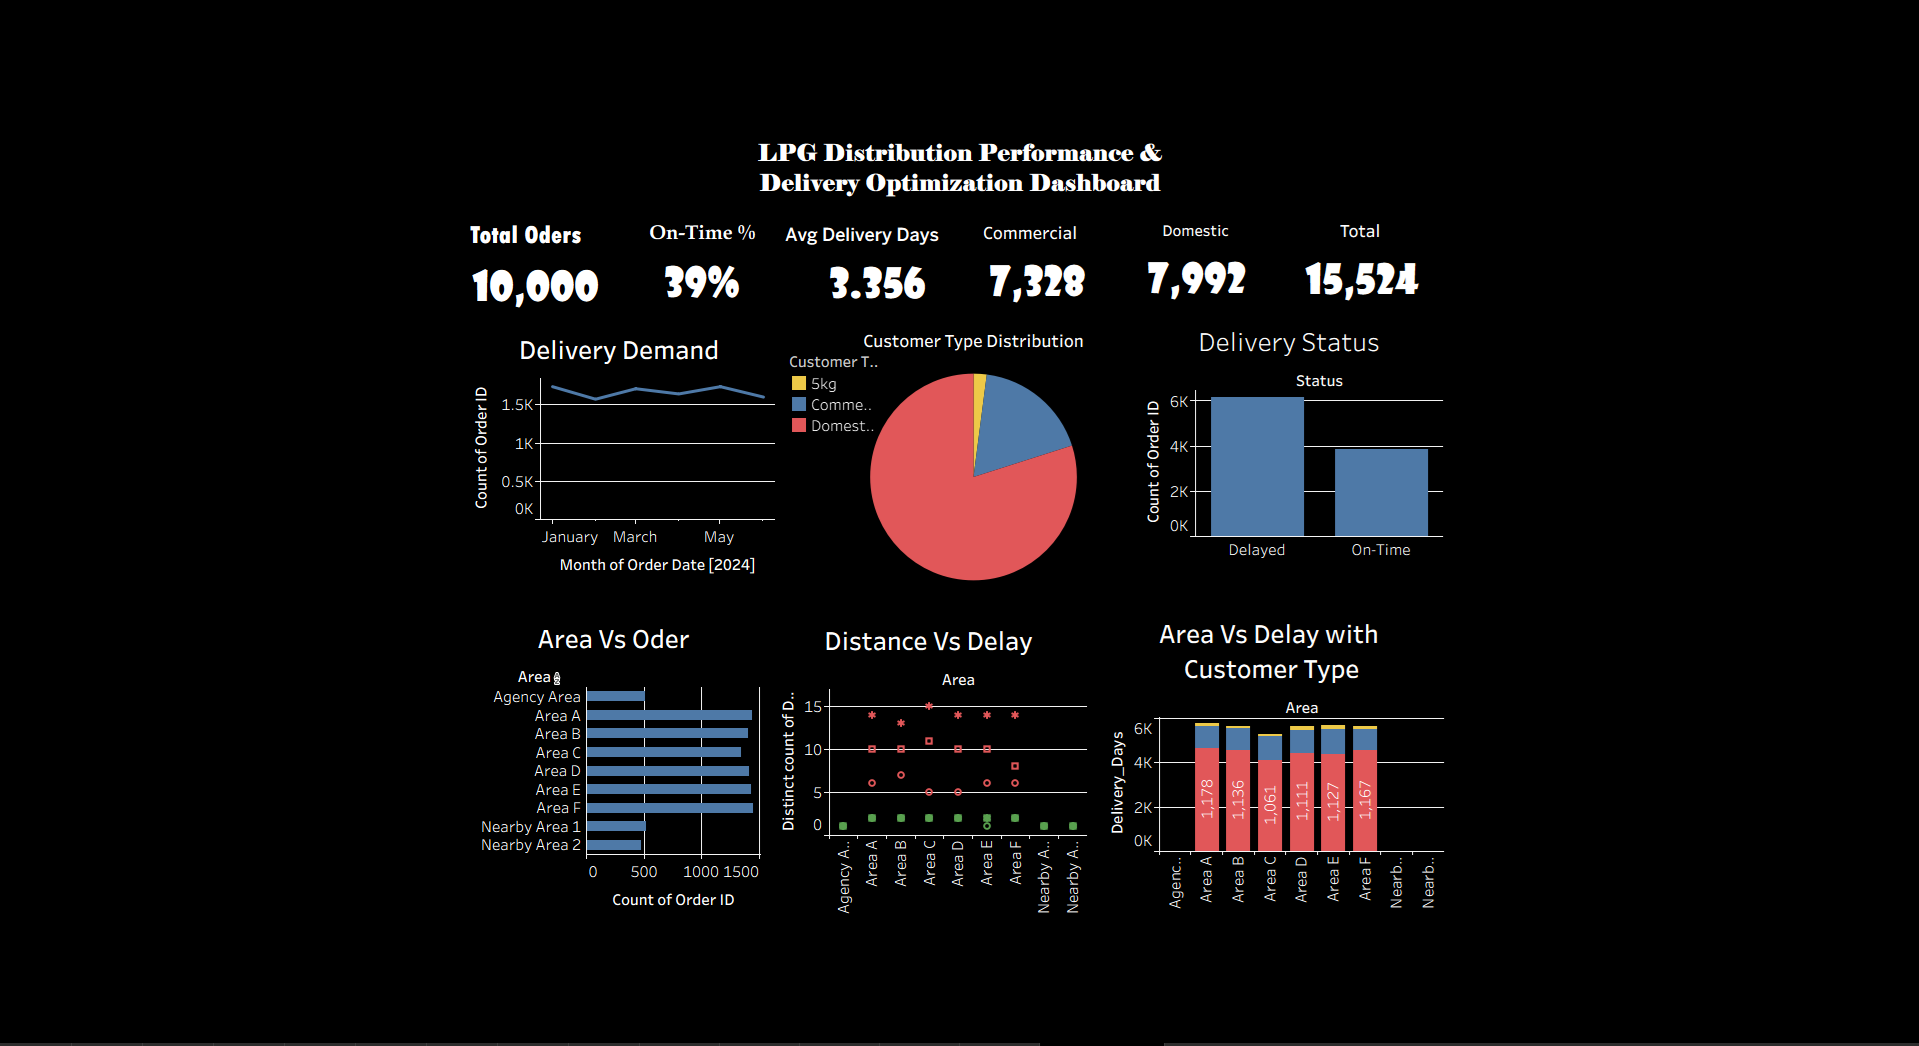

What the dashboard file says about the page in this screenshot:
{"tool":"tableau","page":{"name":"Dashboard 1","canvas":[1000,800],"ordinal":0},"visuals":[{"type":"title","box":[8,8,984,79]},{"type":"worksheet","title":"Sheet 12","mark":"Automatic","box":[806,93,192,105]},{"type":"worksheet","title":"Sheet 13","mark":"Automatic","box":[510,95,151,89]},{"type":"worksheet","title":"Sheet 11","mark":"Automatic","box":[648,95,178,104]},{"type":"worksheet","title":"Sheet 8","mark":"Automatic","box":[6,96,175,99]},{"type":"worksheet","title":"Sheet 9","mark":"Automatic","box":[160,96,165,96]},{"type":"worksheet","title":"Sheet 10","mark":"Automatic","box":[321,99,194,93]},{"type":"worksheet","title":"Sheet 3","mark":"Automatic","rows":["Order_ID"],"cols":["Status"],"box":[675,199,308,241]},{"type":"worksheet","title":"Sheet 2","mark":"Pie","box":[339,203,349,267]},{"type":"worksheet","title":"Sheet 1","mark":"Automatic","rows":["Order_ID"],"cols":["Order_Date"],"box":[3,207,312,254]},{"type":"legend","title":"Sheet 2","param":"[federated.1xmhl8r0v5wpua11dzeox1amyxix].[none:Customer_Type:nk]","box":[329,230,91,129]},{"type":"worksheet","title":"Sheet 7","mark":"Automatic","rows":["Calculation_0187525061132288"],"cols":["Area"],"box":[639,491,345,299]},{"type":"worksheet","title":"Sheet 4","mark":"Bar","rows":["Area"],"cols":["Order_ID"],"box":[6,496,295,300]},{"type":"worksheet","title":"Sheet 6","mark":"Shape","rows":["Calculation_0187525061132288"],"cols":["Area"],"box":[310,498,317,296]}]}

Visuals, with their boxes on the page's 1000x800 design canvas (x1, y1, x2, y2). These are canvas units, not pixel positions in the 1919x1046 screenshot, which may show the page scaled, cropped or inside an application window:
title: detection(8, 8, 992, 87)
"Sheet 12" worksheet: detection(806, 93, 998, 198)
"Sheet 13" worksheet: detection(510, 95, 661, 184)
"Sheet 11" worksheet: detection(648, 95, 826, 199)
"Sheet 8" worksheet: detection(6, 96, 181, 195)
"Sheet 9" worksheet: detection(160, 96, 325, 192)
"Sheet 10" worksheet: detection(321, 99, 515, 192)
"Sheet 3" worksheet: detection(675, 199, 983, 440)
"Sheet 2" worksheet (Pie marks): detection(339, 203, 688, 470)
"Sheet 1" worksheet: detection(3, 207, 315, 461)
"Sheet 2" legend: detection(329, 230, 420, 359)
"Sheet 7" worksheet: detection(639, 491, 984, 790)
"Sheet 4" worksheet (Bar marks): detection(6, 496, 301, 796)
"Sheet 6" worksheet (Shape marks): detection(310, 498, 627, 794)
